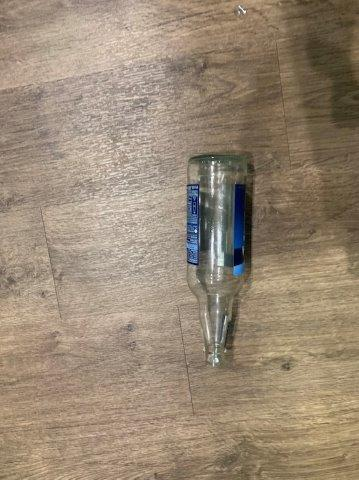botolkaca: (186, 154, 246, 364)
